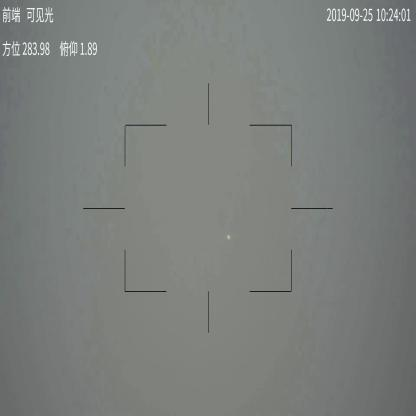uav: (224, 231, 232, 243)
